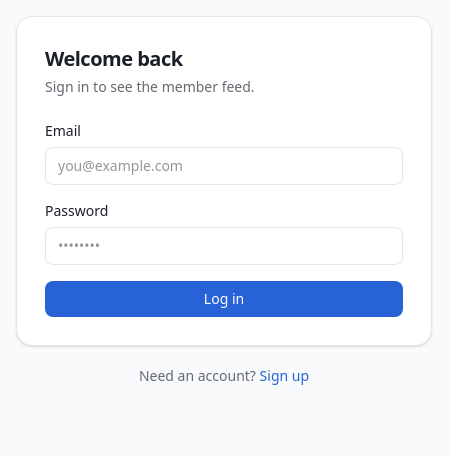
Scenario: login › shows the server error and does NOT navigate when the password is wrong
Type "ada@example.com" into the field labelled "Email" at (224, 166), box [45,147,403,185]
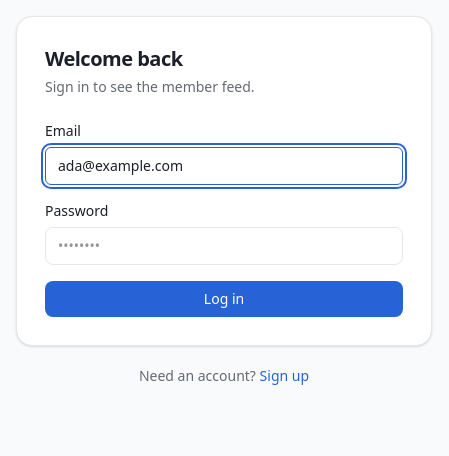
Type "wrong password" into the password field labelled "Password" at (224, 246), box [45,227,403,265]
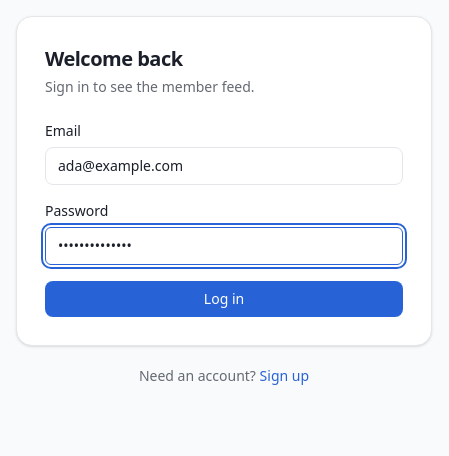
Click the button "Log in" at (224, 299), box [45,281,403,317]
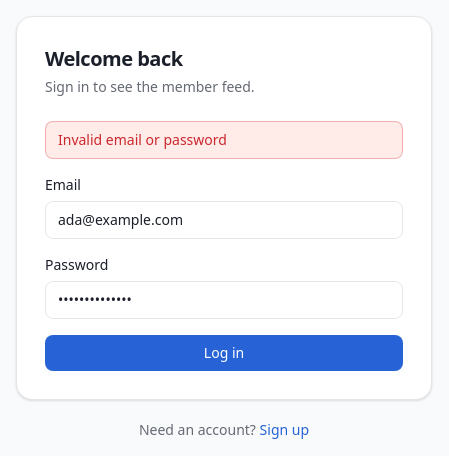
Expected: the message reads "Invalid email or password", [58,130,227,149]
